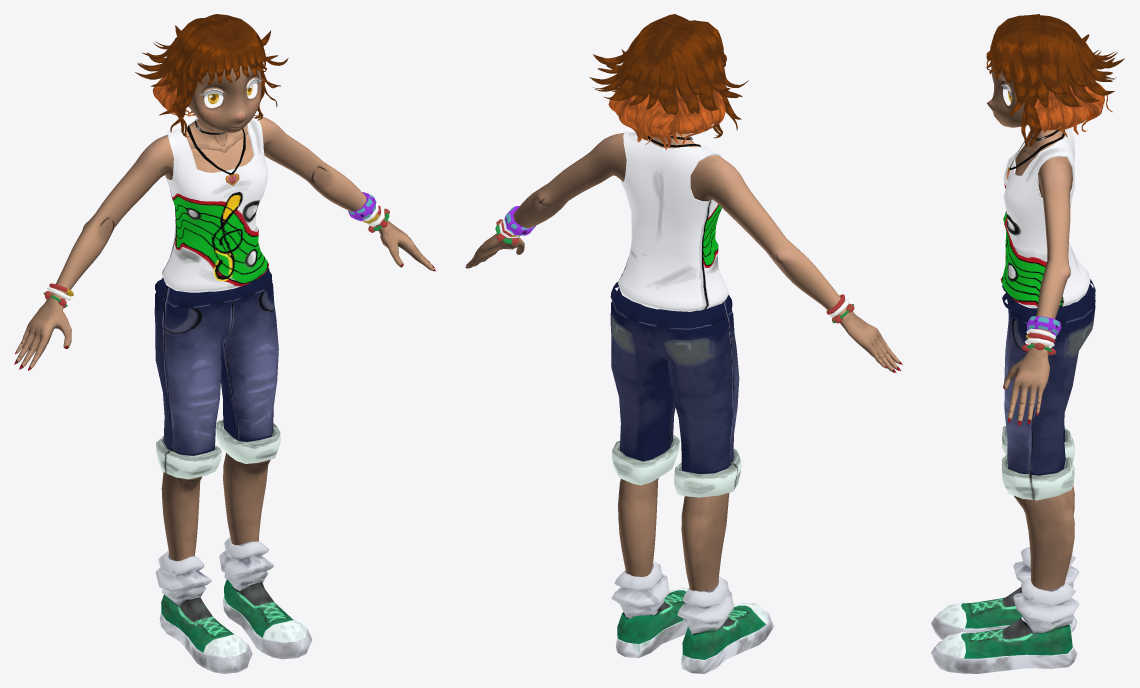
The model's file is Panela.glb.
3 renders of one model, left to right at view 1: azimuth 30°, elevation 25°; view 2: azimuth 150°, elevation 25°; view 3: azimuth 270°, elevation 25°, orthographic. The views are drawn at different scales.
Visible parts, largest first — view 1: Cuerpo, Circle.006, Camiseta, Zapatos, Cube, Base; view 2: Circle.006, Cuerpo, Camiseta, Base, Zapatos, Cube; view 3: Cuerpo, Zapatos, Circle.006, Camiseta, Base, Cube, Torus.004.
Boxes of the visible parts, x1,y1,x2,y2 form: Cuerpo: [14, 64, 436, 560]; Circle.006: [154, 268, 280, 479]; Camiseta: [162, 116, 268, 292]; Zapatos: [155, 537, 312, 673]; Cube: [159, 17, 288, 137]; Base: [135, 14, 277, 116]; Circle.006: [610, 281, 741, 497]; Cuerpo: [465, 132, 902, 591]; Camiseta: [618, 132, 728, 311]; Base: [589, 22, 738, 149]; Zapatos: [611, 560, 773, 673]; Cube: [616, 14, 748, 138]; Cuerpo: [987, 65, 1074, 590]; Zapatos: [931, 546, 1079, 673]; Circle.006: [1001, 279, 1095, 500]; Camiseta: [1000, 128, 1090, 308]; Base: [1034, 15, 1124, 137]; Cube: [986, 14, 1041, 146]; Torus.004: [1027, 316, 1061, 335].
Bounding box in the file's own units: 0.8212 × 1.15 × 0.3234.
Materials: 19 (13 with a texture image).
